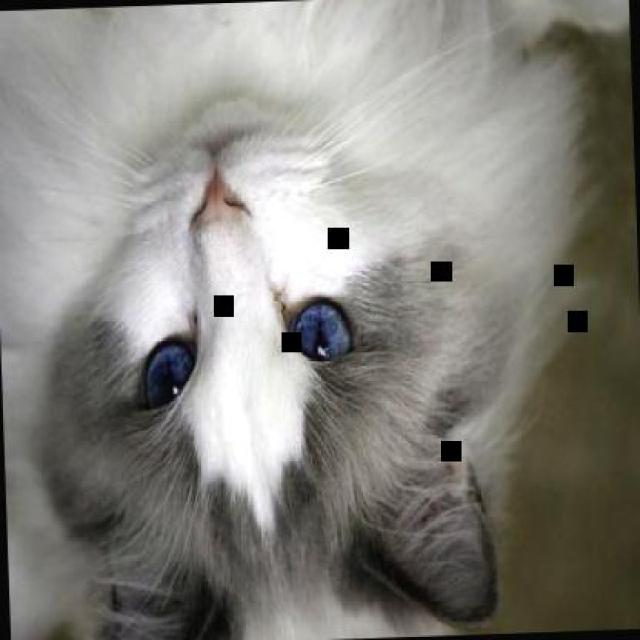cat: (13, 0, 592, 638)
